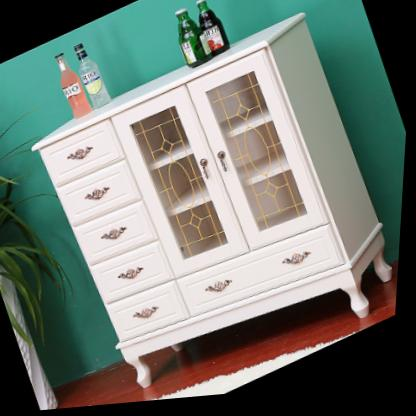Cupboard: (34, 18, 398, 392)
